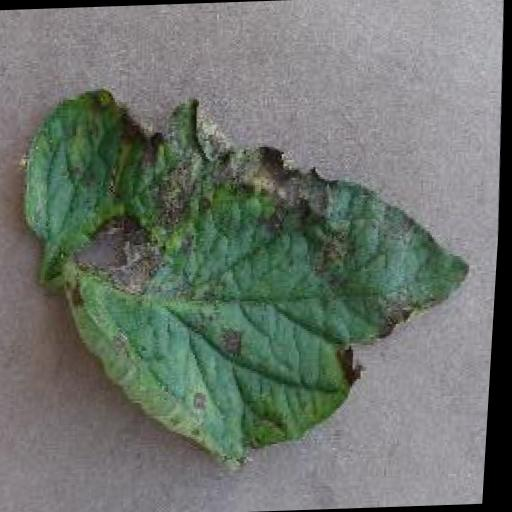Early Blight: (1, 80, 490, 474)
